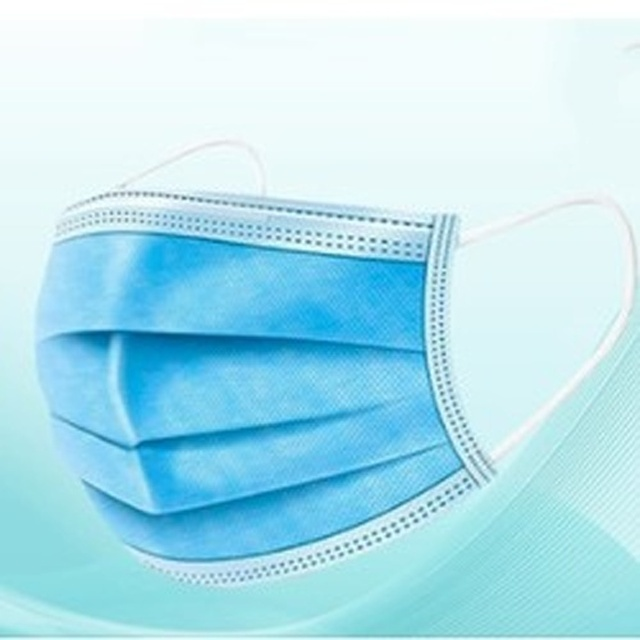mask: (31, 129, 640, 589)
